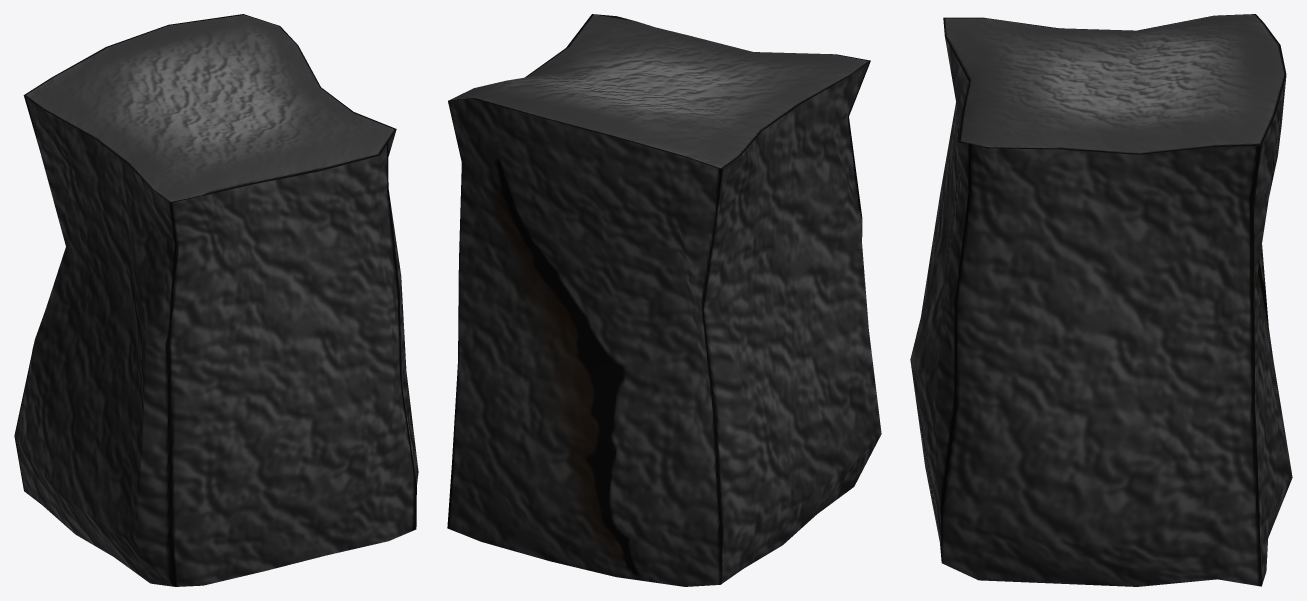
Rendered from TallRock1.fbx.
3 views of the same model, side by side, from view 1: azimuth 30°, elevation 25°; view 2: azimuth 150°, elevation 25°; view 3: azimuth 270°, elevation 25° (orthographic). The views are drawn at different scales.
Parts seen in each view (by area): view 1: TallRock1; view 2: TallRock1; view 3: TallRock1.
Boxes of the visible parts, bbox=[...] form: TallRock1: bbox=[14, 14, 418, 586]; TallRock1: bbox=[447, 14, 881, 586]; TallRock1: bbox=[910, 14, 1292, 586].
Size of the model in its own units: 252 by 330 by 246.
1 material, 1 textured.
